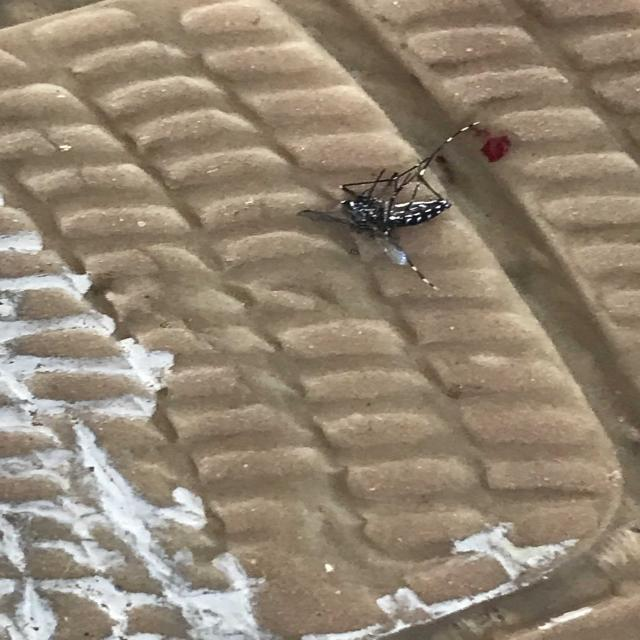albopictus: (290, 115, 488, 296)
